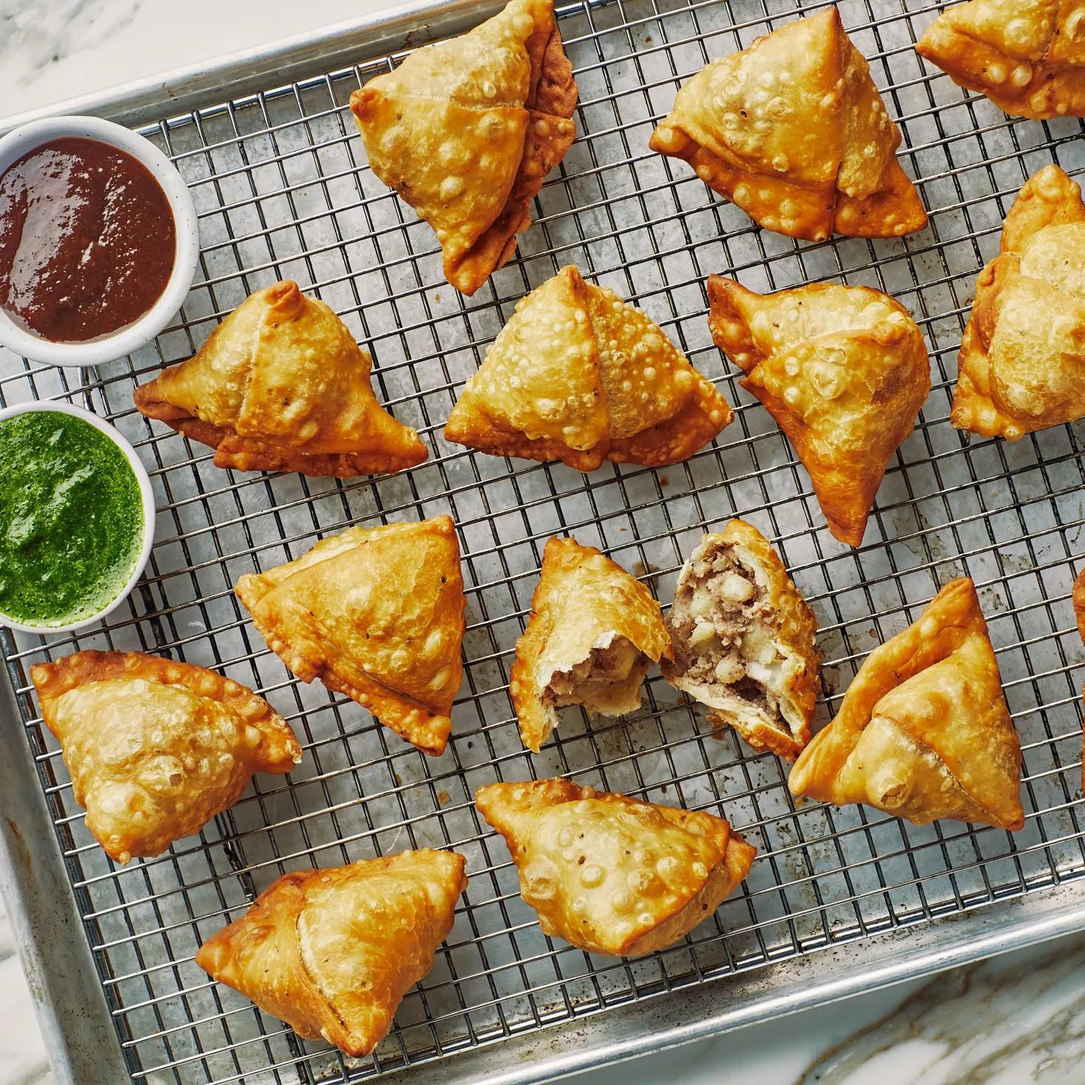Samosa: (521, 507, 814, 778), (644, 6, 944, 243), (349, 1, 589, 288), (790, 576, 1041, 839), (442, 265, 735, 485), (132, 275, 435, 487), (18, 652, 308, 864), (704, 263, 921, 545), (238, 509, 484, 756), (200, 842, 467, 1061), (469, 778, 770, 962), (953, 159, 1085, 455), (896, 0, 1085, 122)
